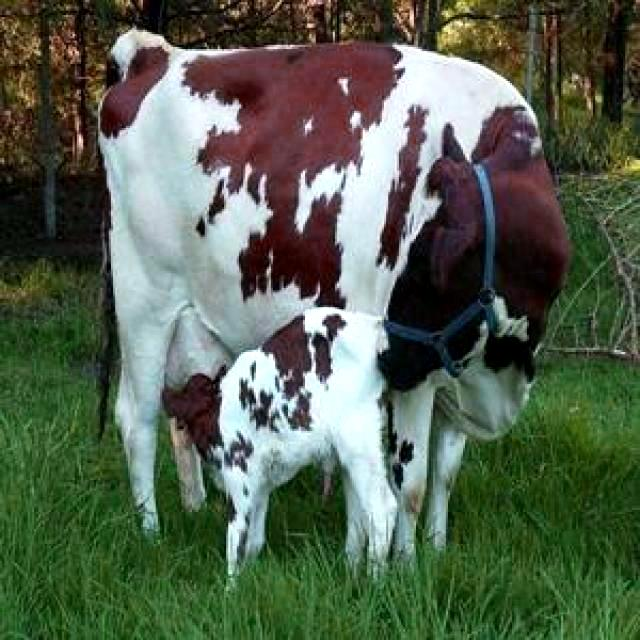COW: (99, 30, 569, 557), (164, 308, 398, 577)
